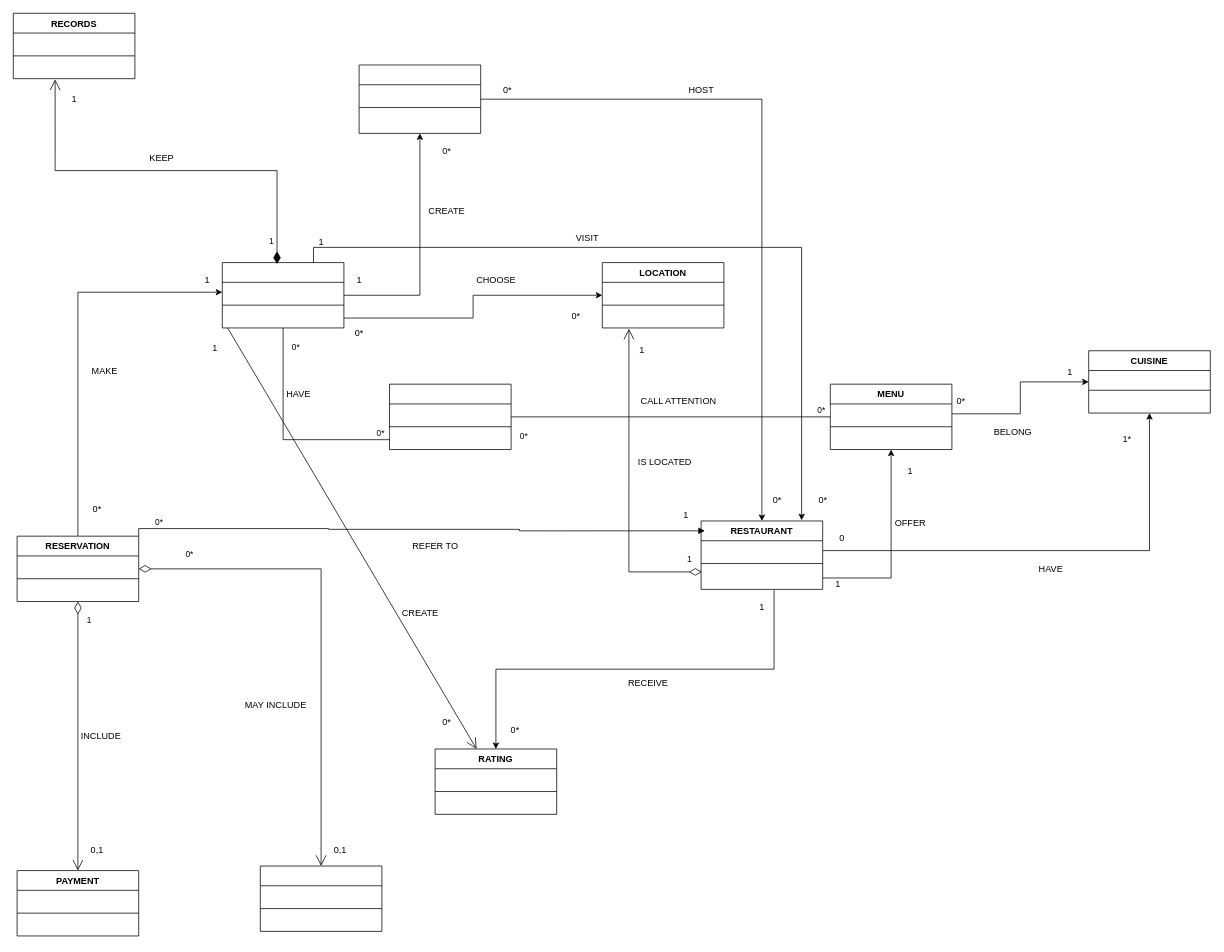
This 1224x952 diagram has some shape labels left out. The shapes that lost their labels are listed below. From the top down, each one's centre as x and y in pixels, then its label:
At pixel 419 98: "EVENT".
At pixel 283 295: "USER".
At pixel 450 416: "ALLERGY".
At pixel 321 898: "TRANSPORT".
